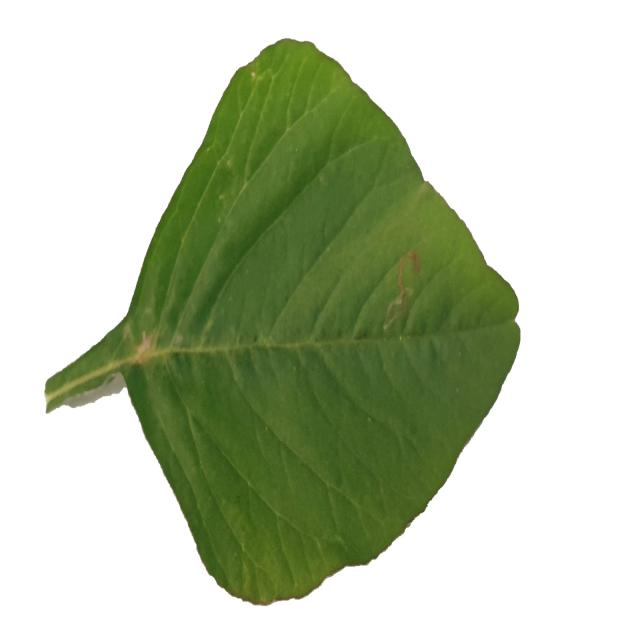Medicinal-Arive Dantu: (54, 37, 522, 608)
